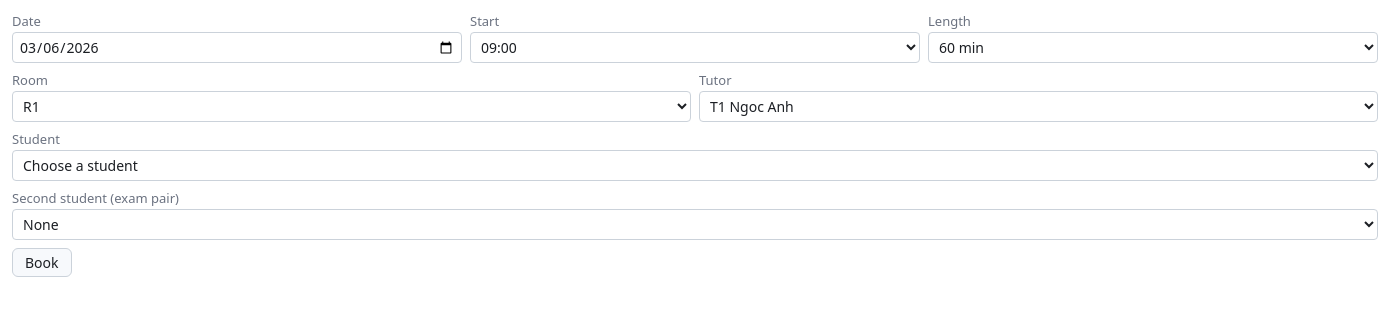
CreateSessionForm › shows a 400's student message under the student field
The image size is (1390, 313).
Select "Vu Ha My" in the dropdown labelled "Student" at (695, 166), box [12,150,1378,181]
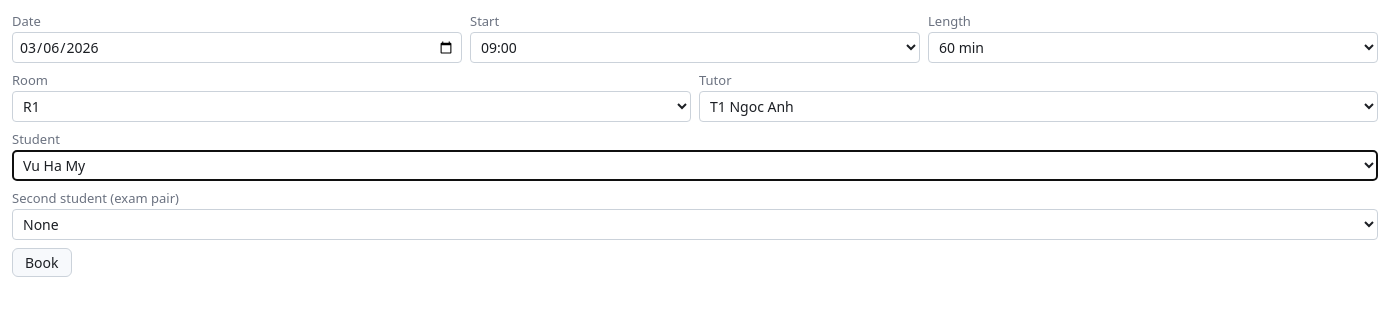
Click the button "Book" at (42, 262), box [12,248,72,277]
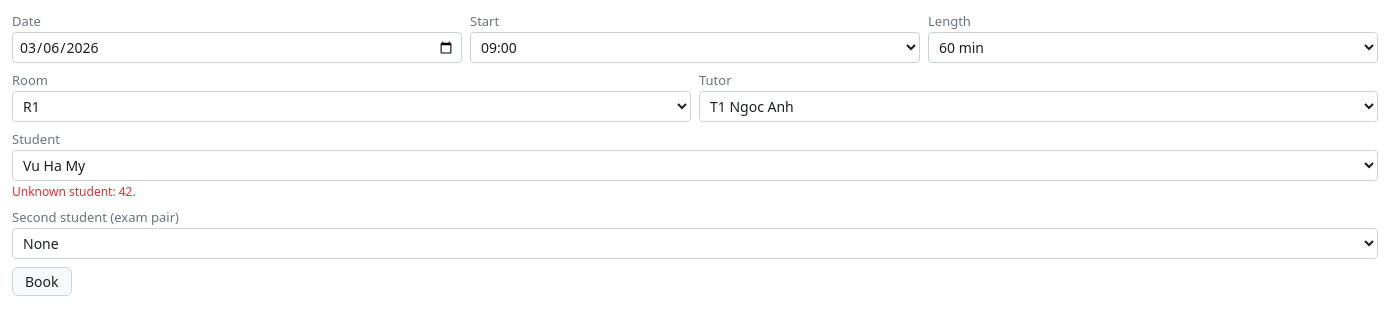
Expected: the text "Unknown student: 42." is shown, [12,183,136,200]
